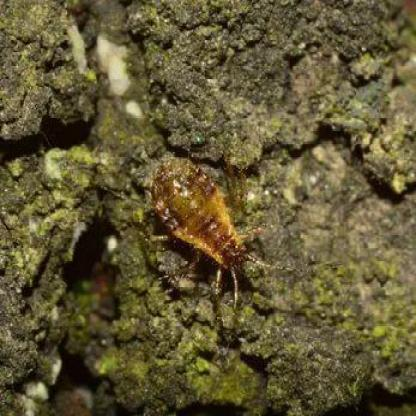aphid: (142, 140, 266, 303)
